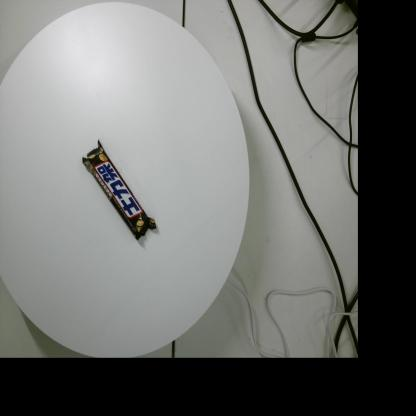Chocolate: (82, 139, 156, 241)
